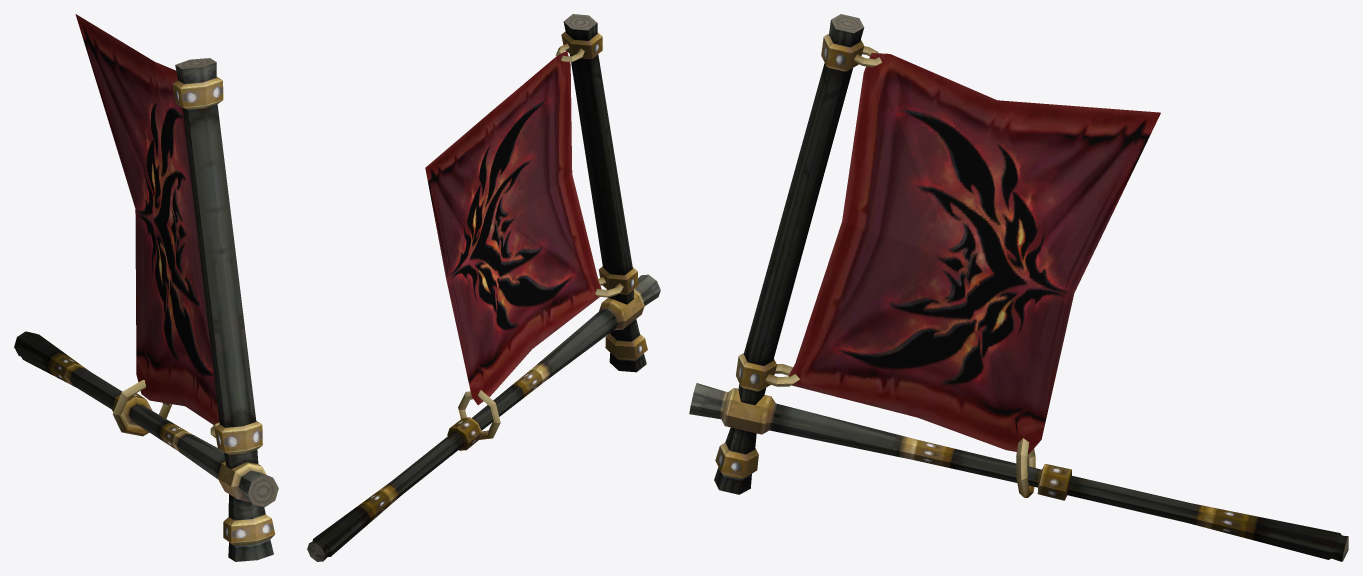
The model's file is common_back_90082.obj.
3 views of the same model, side by side, from view 1: azimuth 30°, elevation 25°; view 2: azimuth 150°, elevation 25°; view 3: azimuth 270°, elevation 25° (orthographic). The views are drawn at different scales.
Visible parts, largest first — view 1: qizi; view 2: qizi; view 3: qizi.
Boxes of the visible parts, x1=… form: qizi: x1=14, y1=14, x2=278, y2=561; qizi: x1=307, y1=14, x2=660, y2=561; qizi: x1=689, y1=14, x2=1348, y2=561.
Bounding box in the file's own units: 13.37 × 57.67 × 68.41.
1 material, 1 textured.
